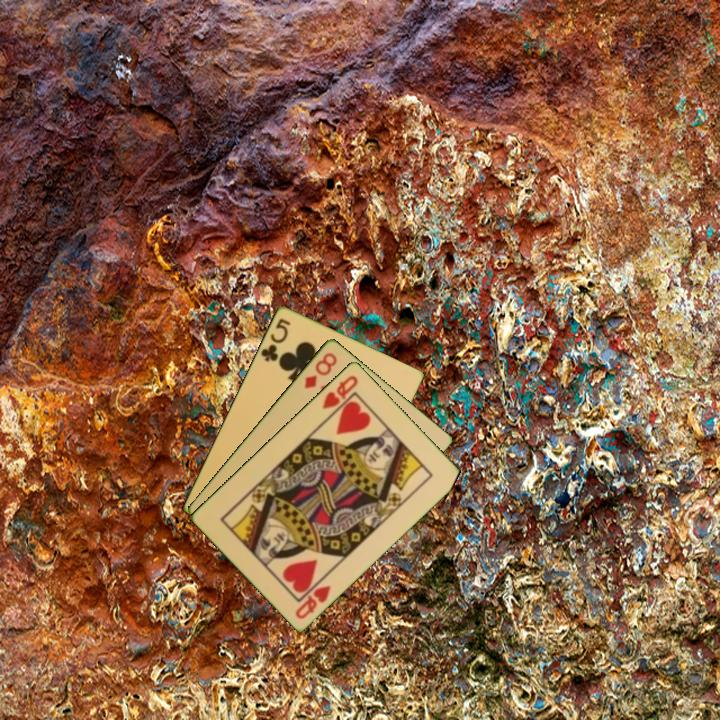5c: (257, 314, 294, 364)
8d: (301, 348, 340, 392)
Qh: (318, 371, 361, 412), (291, 581, 334, 622)
